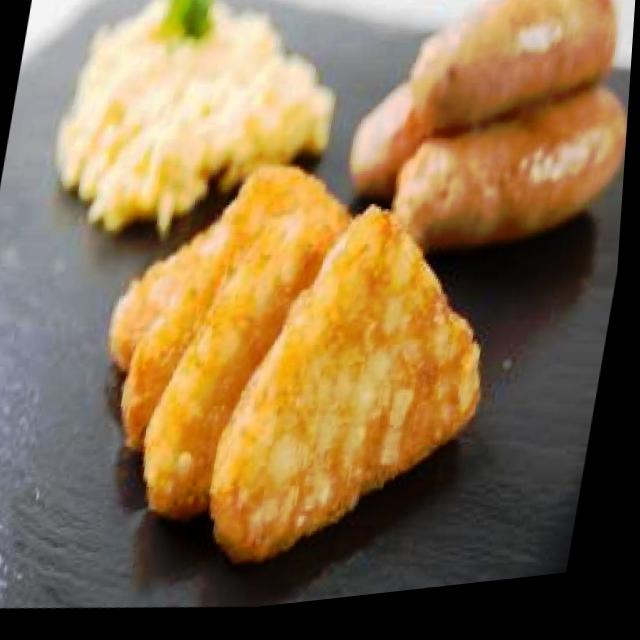Hashbrown: (198, 179, 514, 587), (133, 191, 353, 537), (115, 146, 345, 471), (103, 217, 236, 380)
